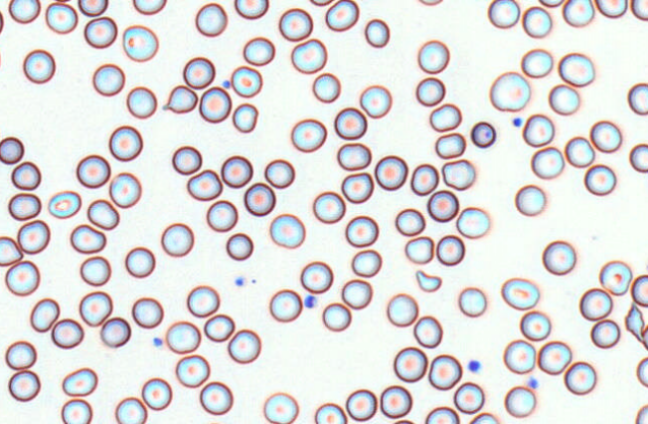PLT: (303, 293, 321, 310), (466, 358, 480, 373), (511, 113, 524, 128), (153, 337, 166, 349), (528, 378, 539, 390), (234, 276, 247, 286)
RBC: (489, 71, 530, 111), (122, 24, 158, 62), (4, 260, 40, 296), (290, 38, 327, 73), (269, 213, 305, 248), (428, 353, 462, 390), (501, 277, 539, 310), (393, 346, 427, 382), (78, 290, 112, 326), (108, 125, 142, 161), (290, 118, 326, 152), (558, 52, 594, 86), (108, 171, 141, 208), (227, 328, 261, 363), (537, 340, 571, 375), (542, 240, 576, 275), (278, 7, 313, 41), (76, 153, 110, 188), (374, 154, 407, 190), (165, 320, 201, 353), (199, 86, 231, 123), (199, 381, 233, 415), (160, 222, 194, 256), (175, 354, 210, 387), (599, 260, 632, 295), (17, 219, 50, 254), (22, 48, 55, 83), (186, 168, 222, 200), (263, 391, 299, 423), (379, 384, 412, 418), (563, 361, 596, 395), (530, 146, 564, 179), (269, 288, 302, 322), (333, 106, 367, 139), (359, 84, 392, 118), (386, 292, 418, 327), (503, 339, 535, 374), (417, 39, 449, 74), (70, 223, 106, 254), (312, 190, 345, 223), (579, 287, 612, 320), (300, 260, 333, 293), (45, 1, 78, 34), (220, 155, 253, 188), (182, 56, 215, 89), (186, 284, 219, 317), (92, 63, 125, 96), (243, 182, 275, 216), (441, 158, 475, 190), (522, 113, 554, 147), (83, 16, 117, 48), (195, 2, 227, 36), (456, 206, 489, 238), (206, 199, 238, 232), (426, 189, 458, 222), (86, 198, 119, 230), (345, 215, 378, 247), (345, 388, 377, 421), (325, 0, 359, 31), (29, 297, 59, 332), (61, 367, 97, 396), (504, 385, 536, 417), (8, 369, 40, 401), (230, 65, 262, 97), (590, 120, 622, 152), (131, 296, 163, 328), (584, 163, 616, 195), (141, 377, 172, 410), (51, 318, 84, 349), (453, 381, 484, 413), (519, 310, 551, 341), (341, 172, 373, 203), (514, 184, 545, 216), (124, 246, 155, 278), (126, 86, 157, 118), (79, 255, 111, 286), (548, 83, 579, 115), (242, 36, 275, 66), (336, 142, 371, 170), (341, 278, 372, 309), (429, 102, 461, 132), (521, 48, 553, 78), (413, 315, 442, 348), (47, 190, 81, 218), (264, 158, 295, 188), (100, 316, 130, 347), (564, 136, 594, 167), (410, 163, 439, 195), (4, 340, 36, 369), (8, 192, 41, 220), (415, 76, 445, 106), (11, 160, 41, 190), (171, 145, 202, 174), (203, 313, 234, 342), (435, 234, 464, 265), (351, 248, 382, 277), (394, 207, 425, 236), (312, 72, 341, 103), (522, 6, 551, 37), (487, 0, 519, 28), (114, 396, 147, 423), (404, 235, 434, 264), (590, 319, 620, 348), (458, 286, 486, 317), (562, 0, 594, 27), (322, 302, 351, 331), (434, 132, 465, 159), (60, 398, 92, 423), (225, 232, 253, 260), (232, 102, 258, 132), (364, 18, 390, 47), (8, 0, 40, 23), (470, 120, 496, 148), (314, 402, 346, 423), (0, 136, 24, 164), (627, 82, 647, 115), (234, 0, 268, 19), (425, 406, 459, 423), (596, 0, 627, 18), (630, 274, 647, 306), (629, 143, 647, 172), (132, 0, 166, 15), (77, 0, 108, 16), (636, 356, 647, 387), (631, 0, 647, 20), (469, 412, 498, 423), (635, 404, 647, 423), (641, 323, 648, 350), (538, 0, 564, 7), (417, 0, 443, 6), (309, 0, 333, 6), (393, 418, 414, 423), (0, 9, 4, 34), (0, 43, 2, 71), (52, 0, 72, 2)
Schistocyte: (165, 84, 196, 115), (624, 302, 646, 342), (0, 234, 24, 269), (415, 269, 444, 293)
